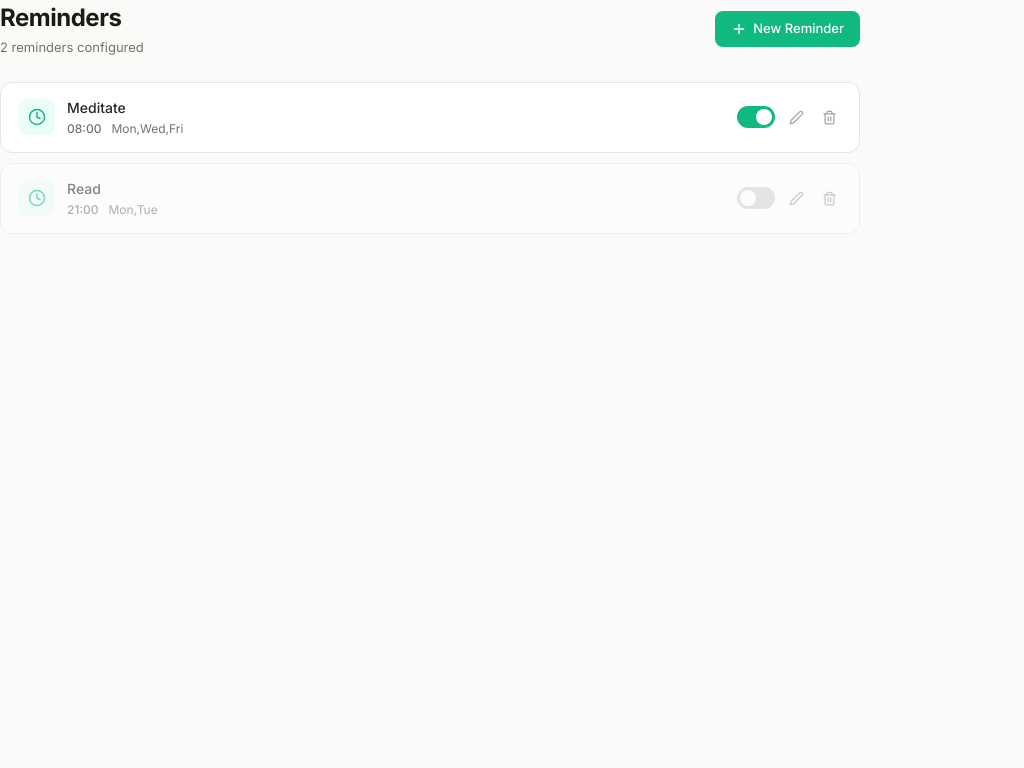
Test: Reminders › opens create modal on button click
The image size is (1024, 768).
Step 1. Click the button "New Reminder" → (788,29), box [715,11,860,46]
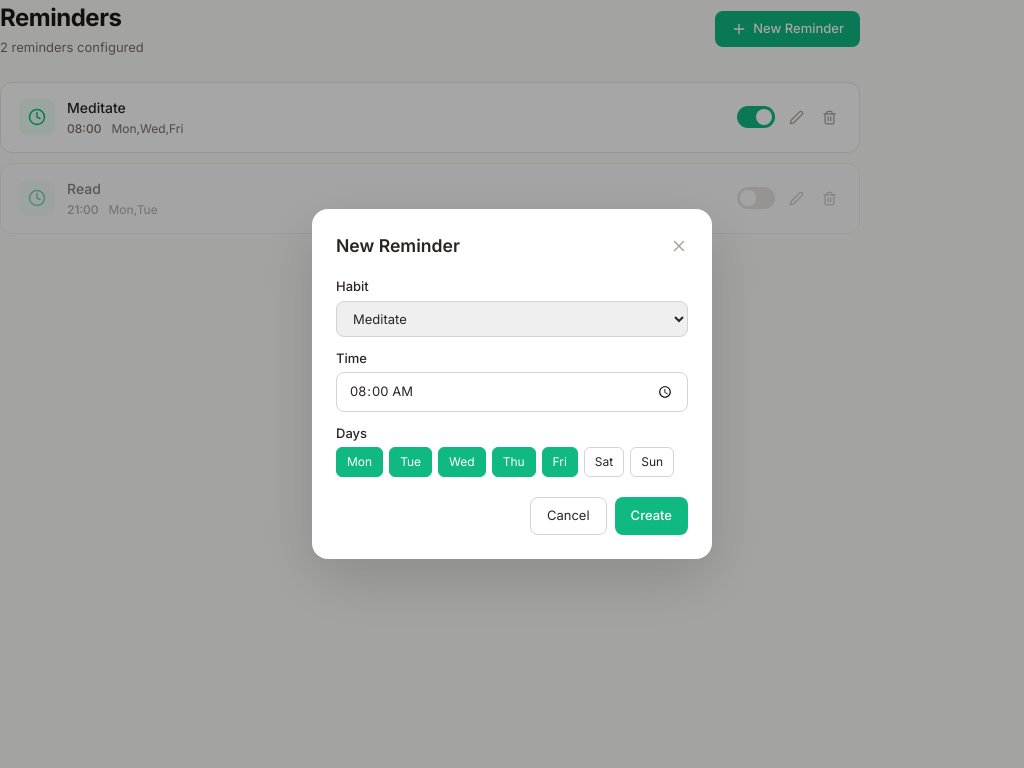
Expected: the button "Create" is shown, [615,498,688,535]
